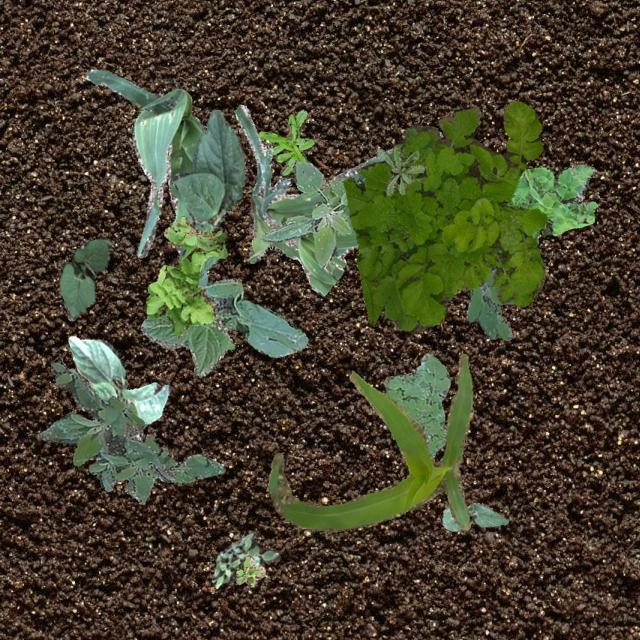crop: (266, 352, 472, 530), (234, 103, 392, 294), (84, 68, 206, 286), (140, 278, 308, 374), (170, 109, 244, 278), (66, 334, 170, 440), (58, 236, 110, 320), (442, 502, 508, 530)
weed: (342, 99, 546, 332), (39, 362, 174, 504), (144, 215, 226, 336), (260, 160, 350, 266), (501, 163, 596, 240), (382, 352, 450, 457), (123, 432, 224, 494), (256, 108, 312, 176), (210, 532, 278, 588), (466, 264, 514, 340), (374, 144, 422, 193), (234, 556, 264, 586)
